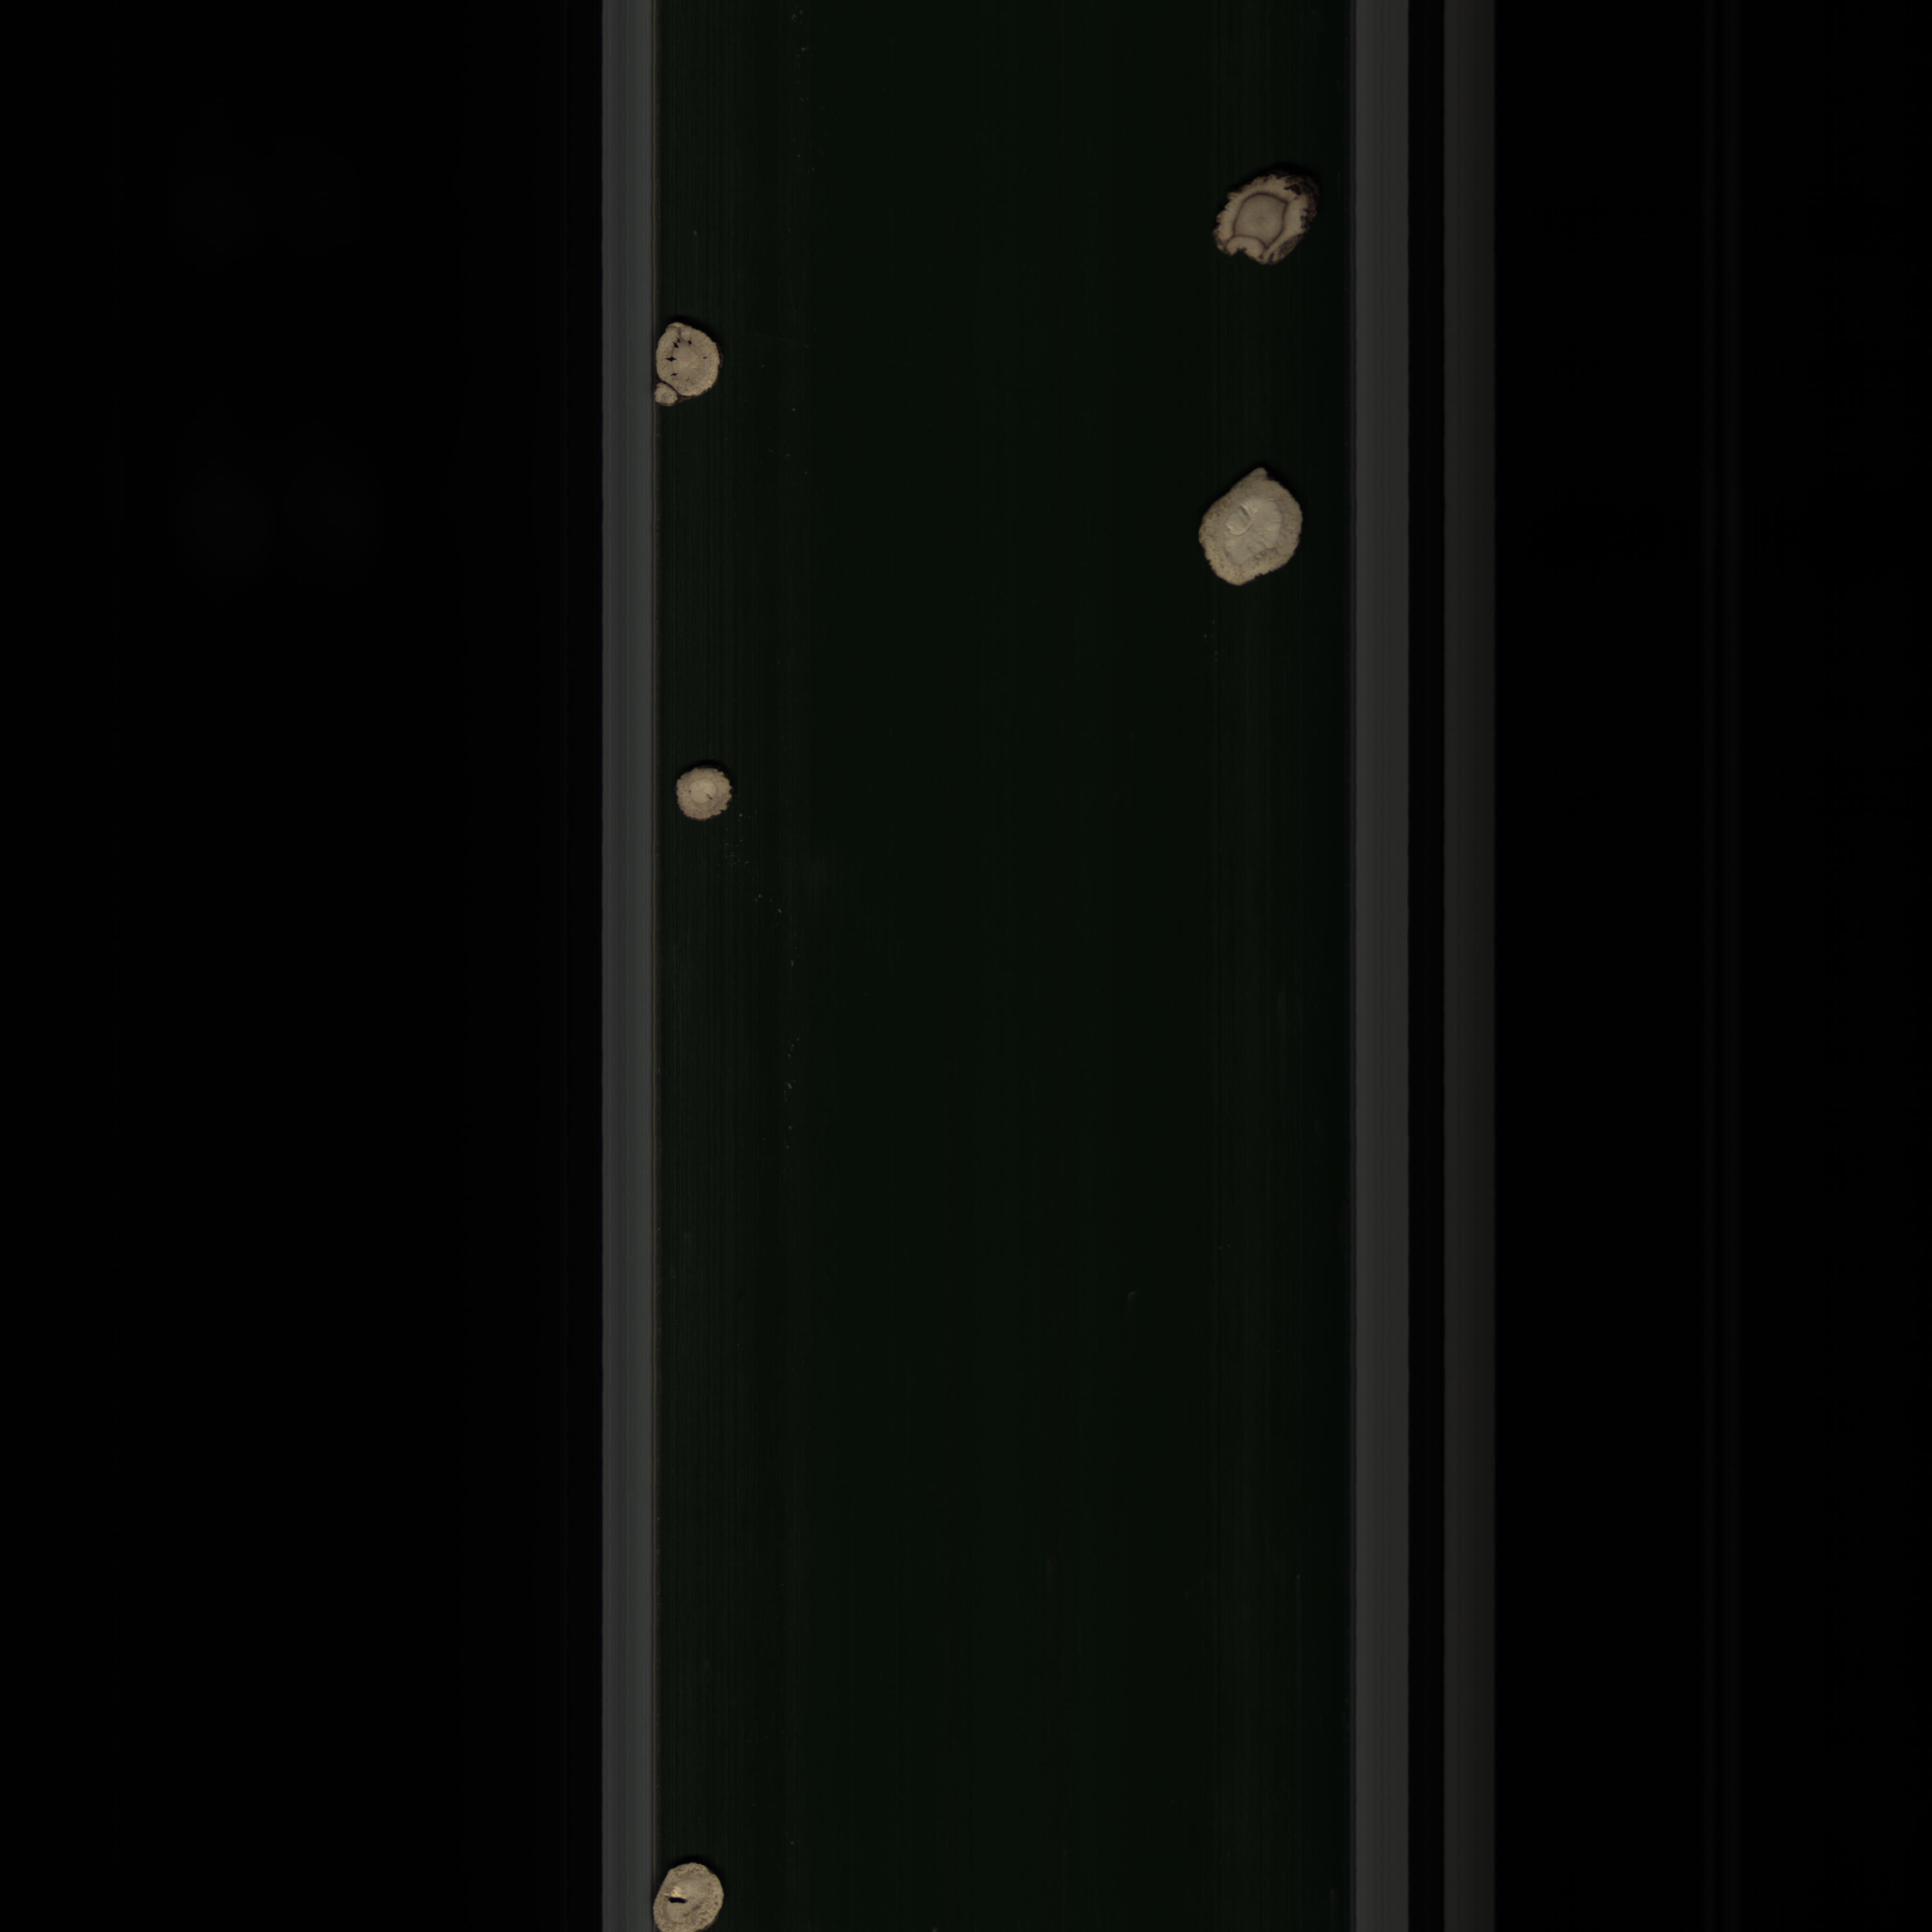hole: (646, 322, 738, 421), (651, 1863, 732, 1932)
moldy: (1201, 165, 1325, 287)
